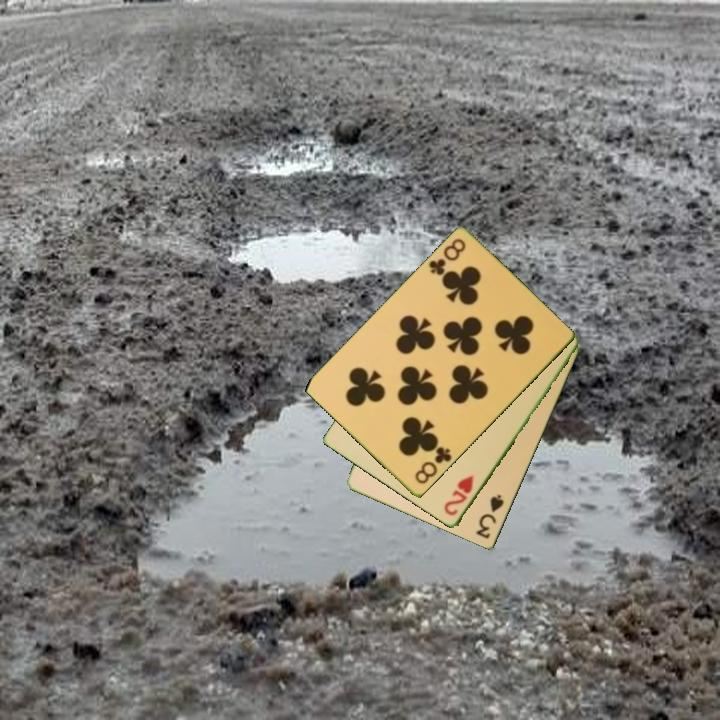2h: (440, 472, 477, 519)
3s: (472, 491, 507, 542)
8c: (411, 443, 455, 487), (425, 235, 469, 279)
